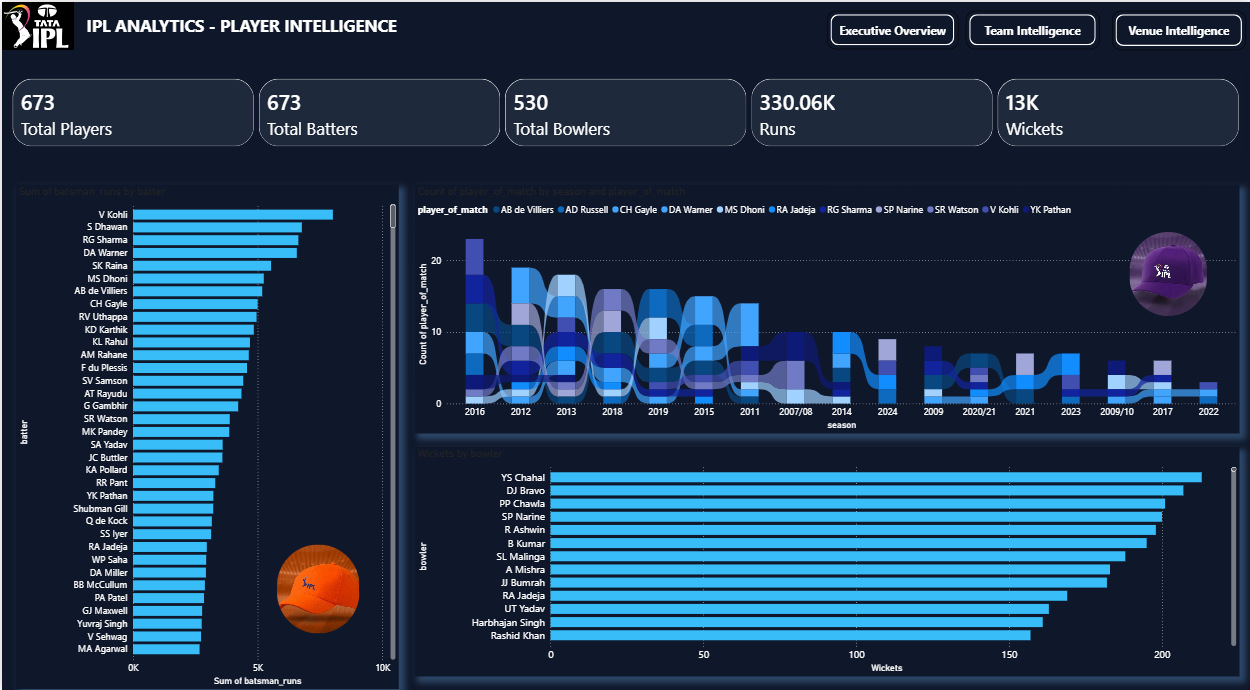

The dashboard page shown, as its layout file describes it:
{"tool":"powerbi","page":{"name":"Player Intelligence ","canvas":[2000,1100],"ordinal":2},"visuals":[{"type":"actionButton","box":[1541.4,14.3,214.3,61.4],"z":0},{"type":"actionButton","box":[1775.7,14.3,214.3,62.9],"z":1000},{"type":"image","box":[0,0,115,76.7],"z":2000},{"type":"textbox","box":[130,14,514,48],"z":3000},{"type":"cardVisual","fields":{"Data":["ipl_analytics deliveries.Total Players","ipl_analytics deliveries.Total Batters","ipl_analytics deliveries.Total Bowlers","ipl_analytics deliveries.Runs","ipl_analytics deliveries.Wickets"]},"box":[0,106,2000,142],"z":4000},{"type":"clusteredBarChart","fields":{"Category":["ipl_analytics deliveries.batter"],"Y":["Sum(ipl_analytics deliveries.batsman_runs)"]},"box":[21.4,292.9,612.9,807.1],"z":5000},{"type":"clusteredBarChart","fields":{"Category":["ipl_analytics deliveries.bowler"],"Y":["ipl_analytics deliveries.Wickets"]},"box":[660,712.5,1320,367.5],"z":6000},{"type":"areaChart","fields":{"Category":["ipl_analytics matches.season","ipl_analytics matches.player_of_match"],"Y":["CountNonNull(ipl_analytics matches.player_of_match)"]},"box":[660,292,1320,398],"z":7000},{"type":"actionButton","box":[1320,14.3,210,61.4],"z":8000},{"type":"image","box":[440,868,132,142],"z":12000},{"type":"image","box":[1804,368,124,134],"z":13000}]}

Visuals, with their boxes in screenshot pixels (x1, y1, x2, y2), scaled from the page's 2000x1100 canvas onto the 1250x690 screenshot:
actionButton: 963,9,1097,47
actionButton: 1110,9,1244,48
image: 0,0,72,48
textbox: 81,9,402,39
cardVisual - ipl_analytics deliveries.Total Players x ipl_analytics deliveries.Total Batters: 0,66,1249,156
clusteredBarChart - ipl_analytics deliveries.batter x Sum(ipl_analytics deliveries.batsman_runs): 13,184,396,689
clusteredBarChart - ipl_analytics deliveries.bowler x ipl_analytics deliveries.Wickets: 412,447,1238,677
areaChart - ipl_analytics matches.season x ipl_analytics matches.player_of_match: 412,183,1238,433
actionButton: 825,9,956,47
image: 275,544,358,634
image: 1128,231,1205,315
